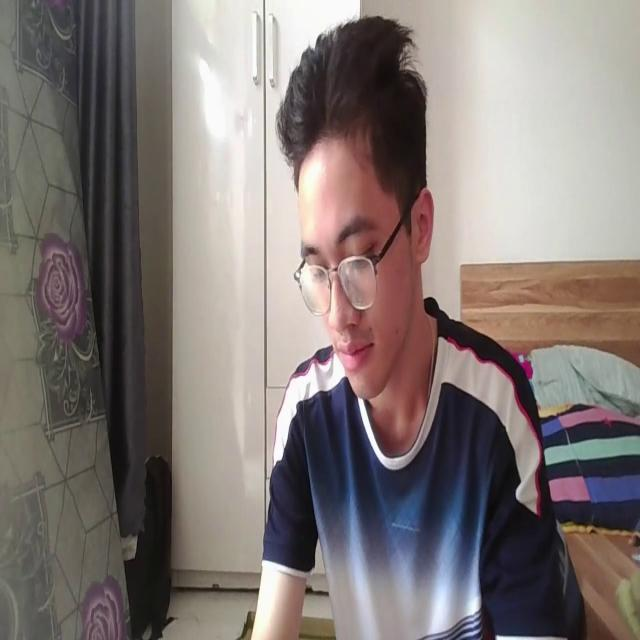student: (242, 10, 575, 640)
